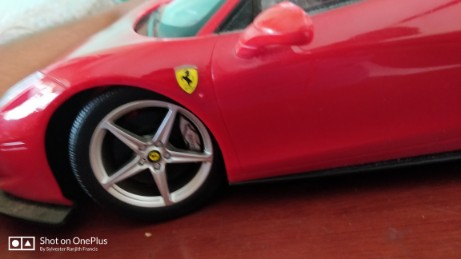unaligned_wheel: (48, 75, 229, 223)
